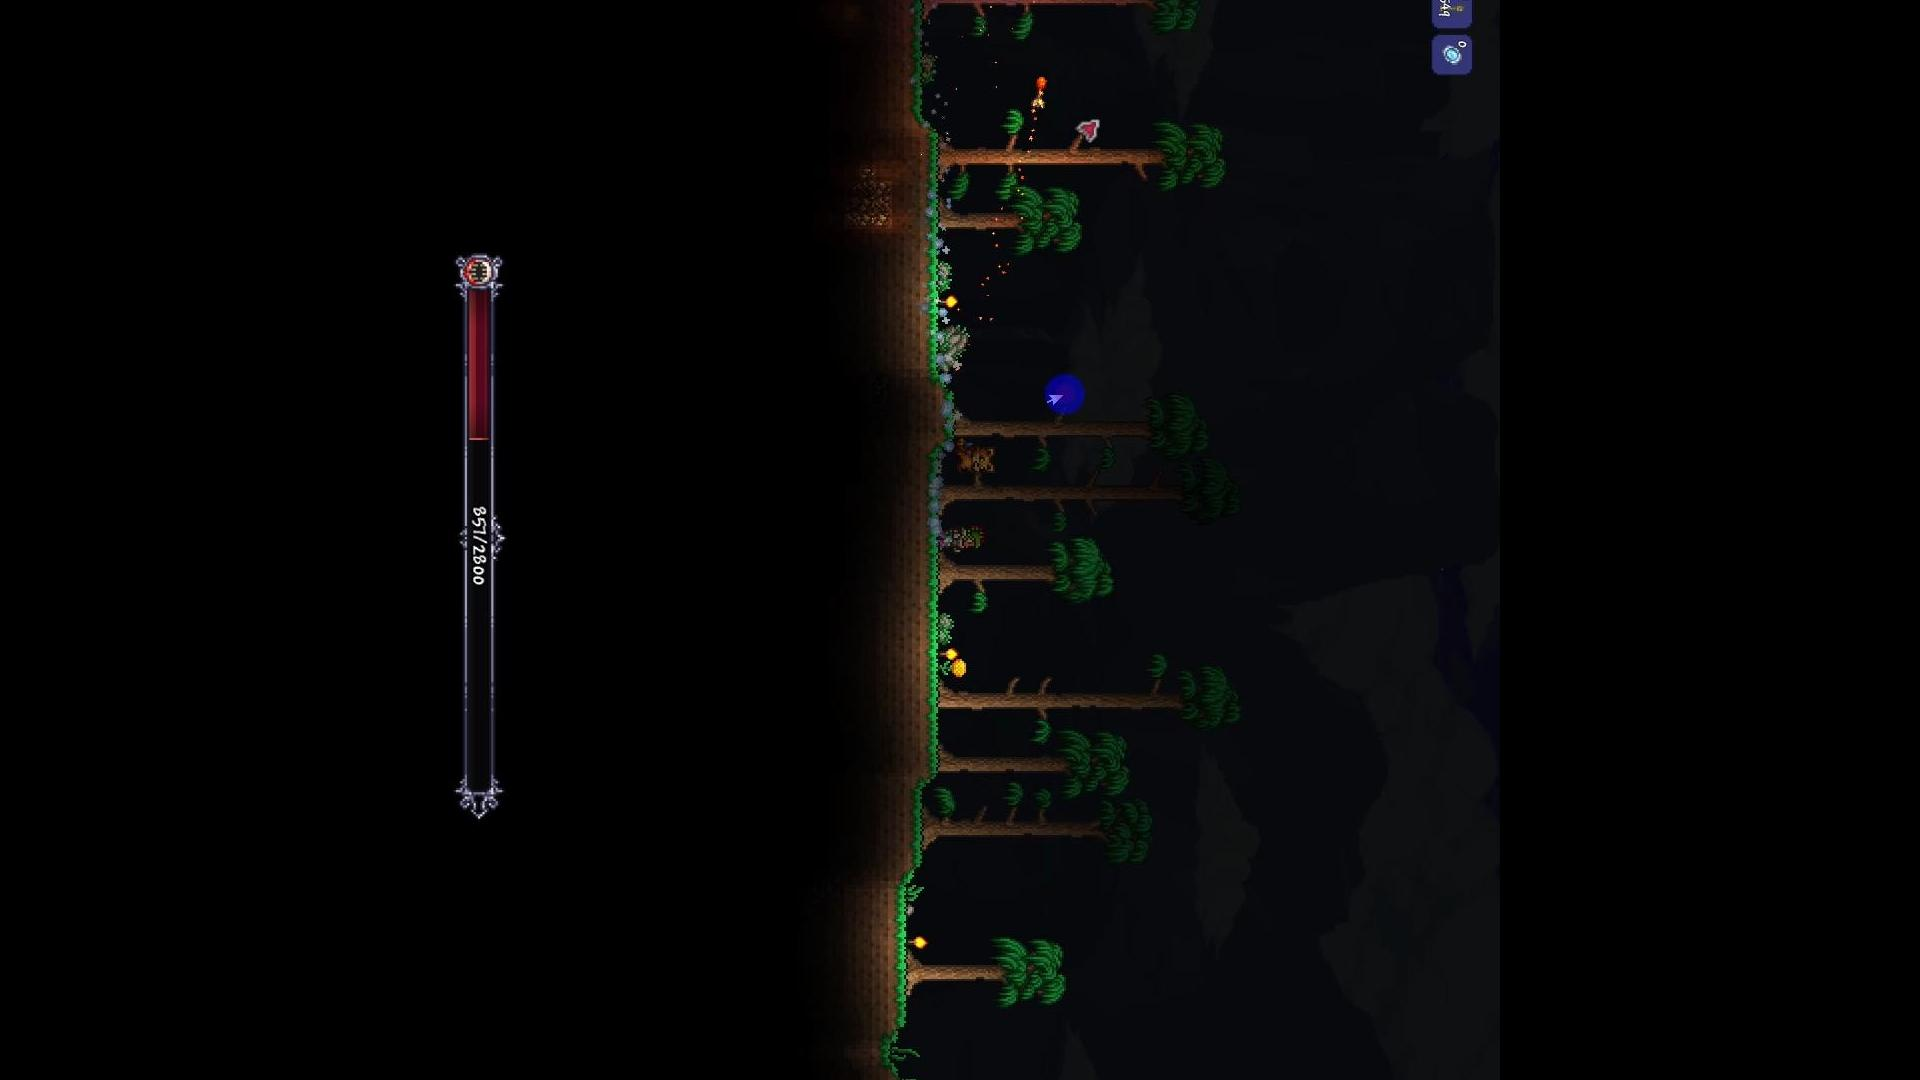dirt: (902, 363, 947, 795), (898, 115, 953, 393), (894, 785, 928, 1036), (880, 0, 934, 131), (878, 1040, 936, 1080)
